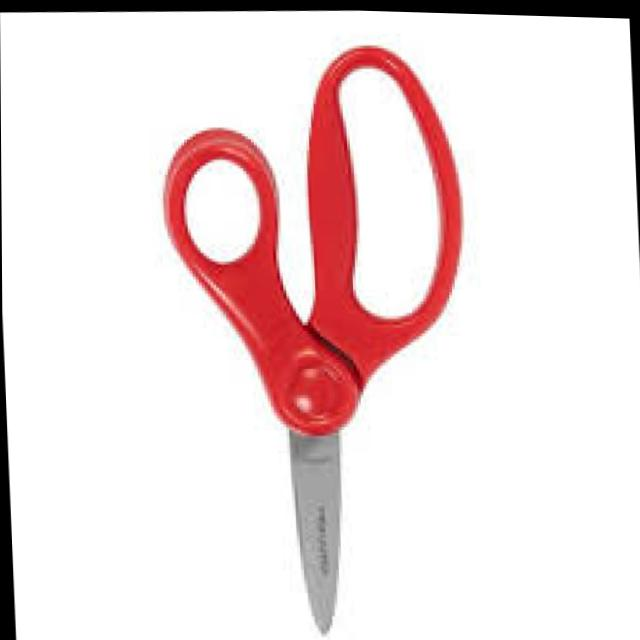scissor: (154, 34, 479, 640)
